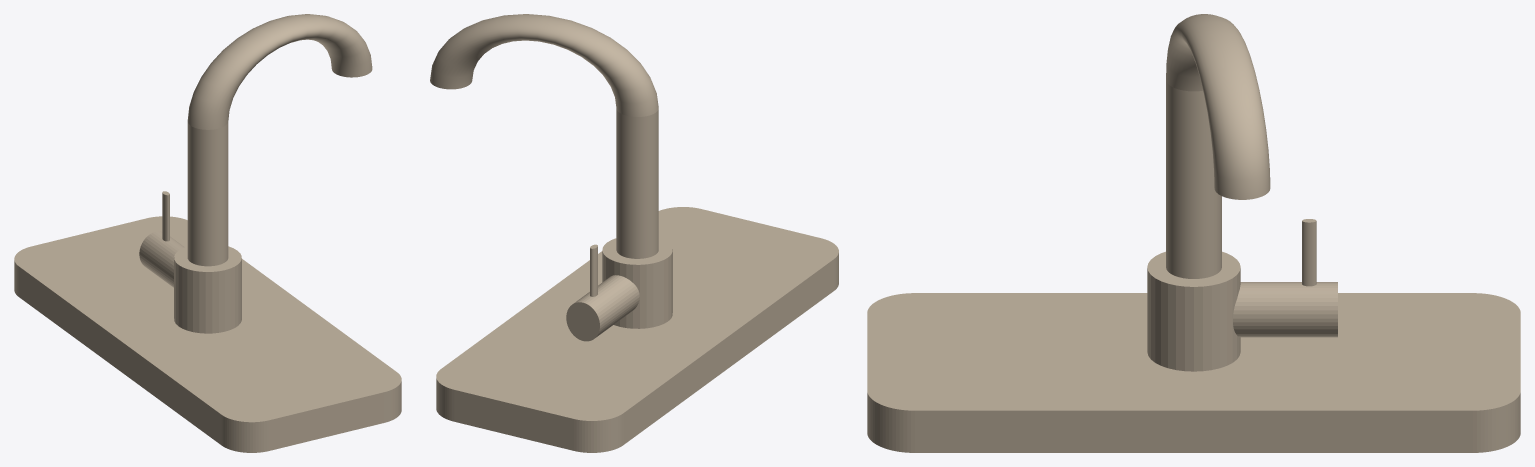
The model's file is 3dcodebench_Tap_seed0.glb.
3 renders of one model, left to right at view 1: azimuth 30°, elevation 25°; view 2: azimuth 150°, elevation 25°; view 3: azimuth 270°, elevation 25°, orthographic. The views are drawn at different scales.
Parts seen in each view (by area): view 1: object; view 2: object; view 3: object.
Part boxes in pixels (box(x1,y1,x2,y2)): object: box(14, 14, 401, 452); object: box(430, 14, 838, 452); object: box(867, 14, 1520, 452).
Size of the model in its own units: 0.1817 by 0.1959 by 0.28.
